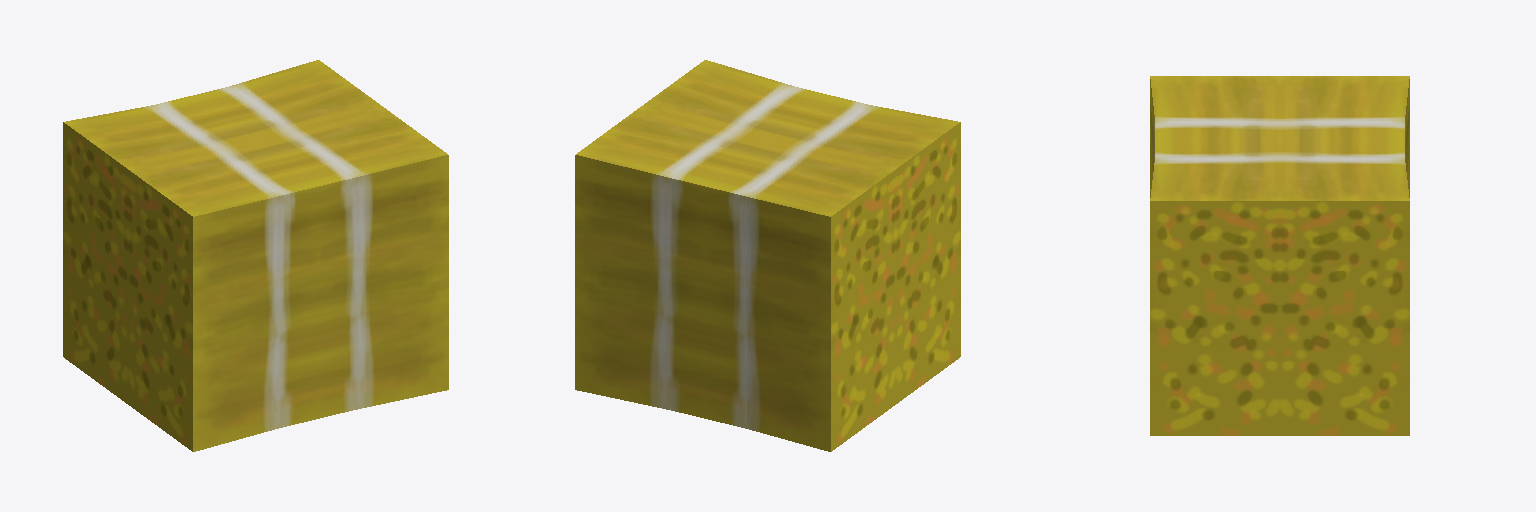
3 renders of one model, left to right at view 1: azimuth 30°, elevation 25°; view 2: azimuth 150°, elevation 25°; view 3: azimuth 270°, elevation 25°, orthographic.
Parts seen in each view (by area): view 1: Hay_Cube.003; view 2: Hay_Cube.003; view 3: Hay_Cube.003.
Boxes of the visible parts, <box> form: Hay_Cube.003: <box>63,60,448,451</box>; Hay_Cube.003: <box>575,60,960,451</box>; Hay_Cube.003: <box>1150,76,1409,435</box>.
Size of the model in its own units: 1.14 by 1 by 1.
1 materials, 1 textured.